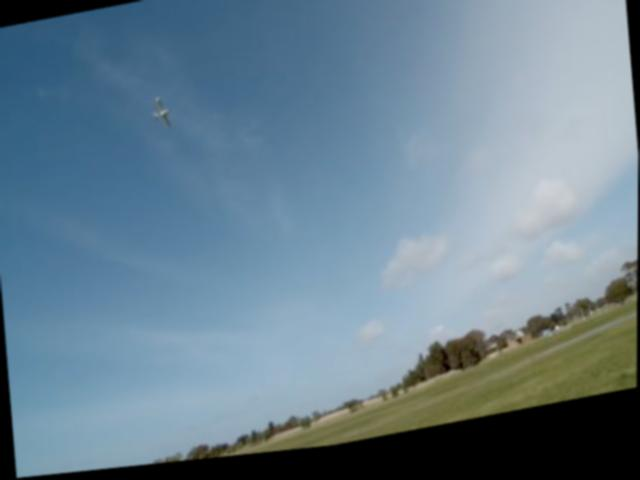uav: (144, 91, 178, 141)
